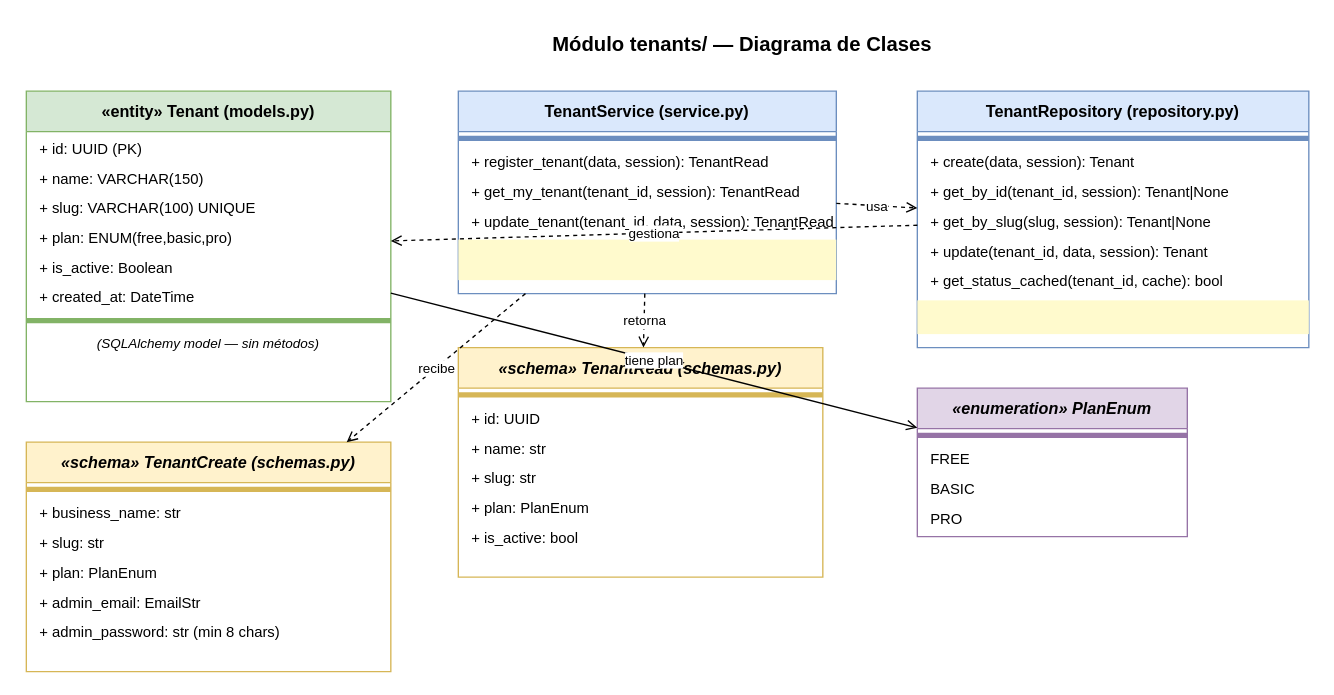
Some shapes in this 1334 by 695 pixel diagram are drawn without their labels. Here are the shapes that lost their labels. From the top down, the centre of each, then its label:
At [647,259]: "⚡ register_tenant() usa async with session.begin()".
At [1112,316]: "🔒 Todas las queries incluyen WHERE tenant_id=:id".
